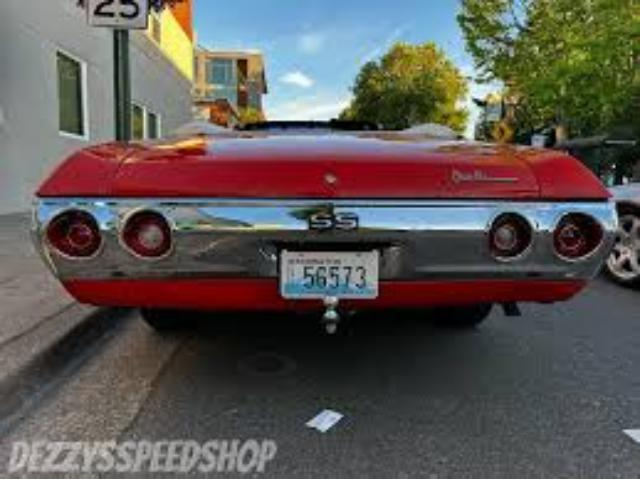chevelle-1972: (30, 119, 618, 331)
